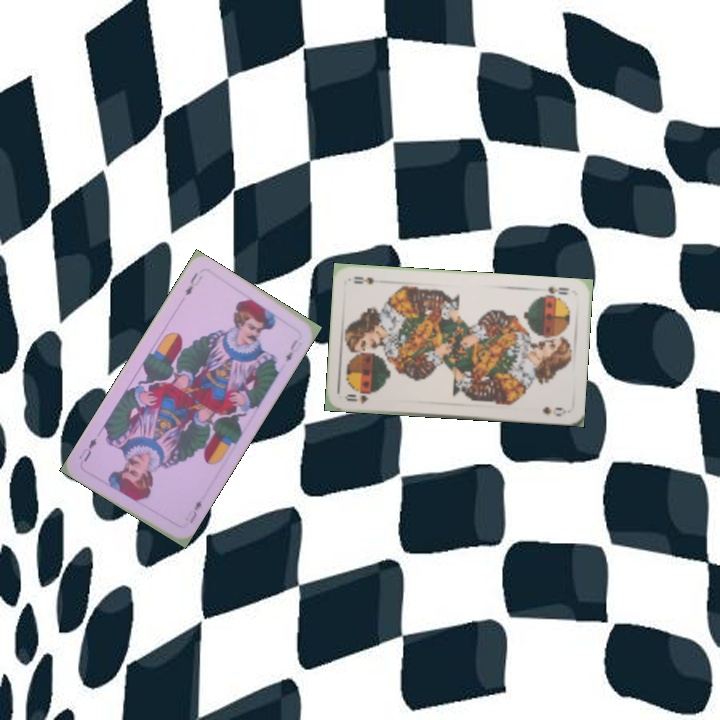EU: (180, 269, 205, 299), (185, 496, 205, 526)
SO: (341, 390, 371, 406), (544, 283, 572, 297)
